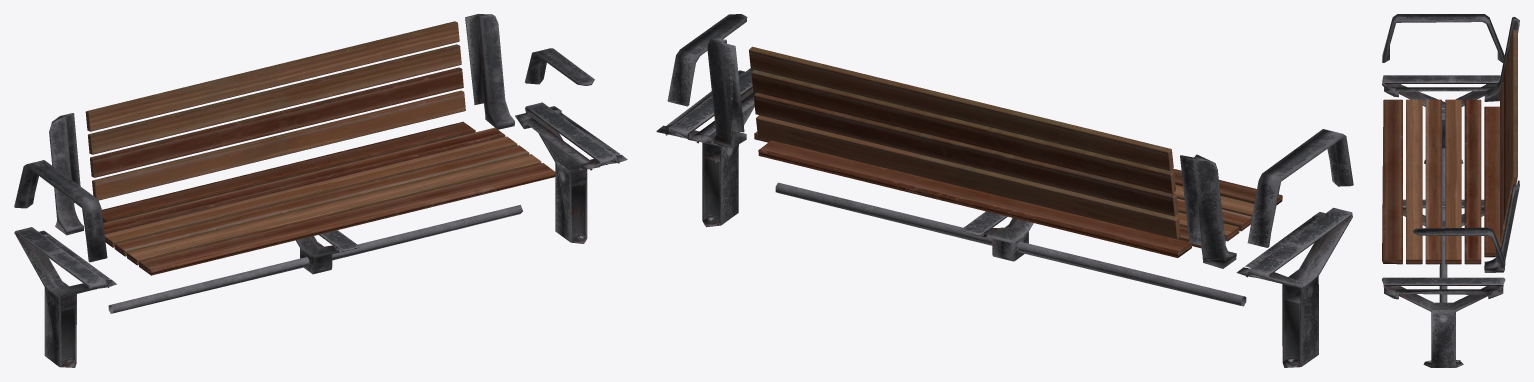
Rendered from bench-modern.glb.
The picture shows the model from 3 angles, left to right: view 1: azimuth 30°, elevation 25°; view 2: azimuth 150°, elevation 25°; view 3: azimuth 270°, elevation 25°; orthographic projection. The views are drawn at different scales.
Parts seen in each view (by area): view 1: seat, crossbar, legs_double; view 2: seat, crossbar, legs_double; view 3: seat, legs_double, crossbar.
Boxes of the visible parts, x1=… form: seat: x1=85, y1=21, x2=555, y2=275; crossbar: x1=14, y1=14, x2=594, y2=313; legs_double: x1=14, y1=102, x2=627, y2=367; seat: x1=749, y1=46, x2=1282, y2=257; crossbar: x1=667, y1=14, x2=1353, y2=306; legs_double: x1=656, y1=68, x2=1352, y2=367; seat: x1=1382, y1=29, x2=1517, y2=264; legs_double: x1=1382, y1=75, x2=1505, y2=367; crossbar: x1=1382, y1=14, x2=1519, y2=302.
Bounding box in the file's own units: 2.45 × 0.8649 × 0.6695.
Materials: 3 (3 with a texture image).
